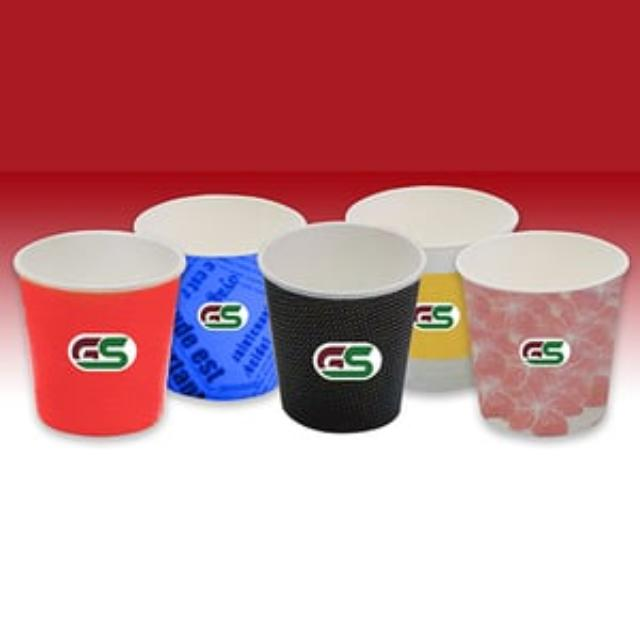trash: (454, 232, 632, 440), (13, 228, 186, 434), (263, 221, 423, 435)
